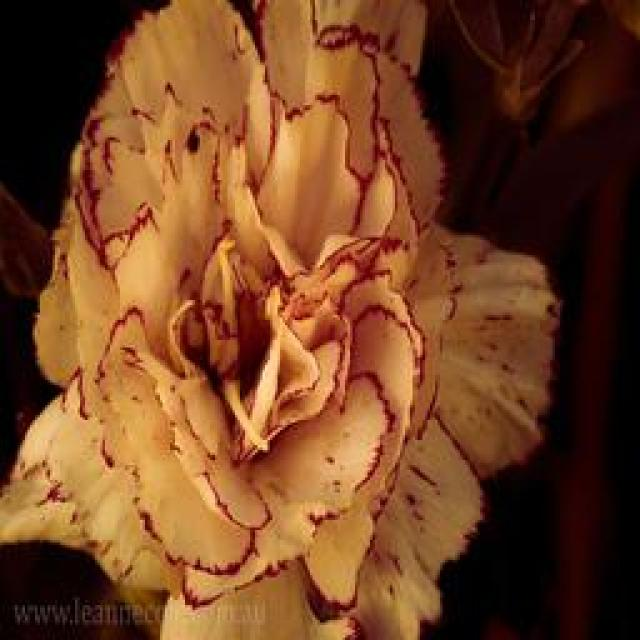carnation: (9, 0, 586, 639)
